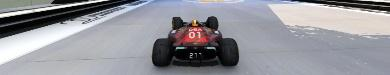Car: (150, 16, 239, 66)
